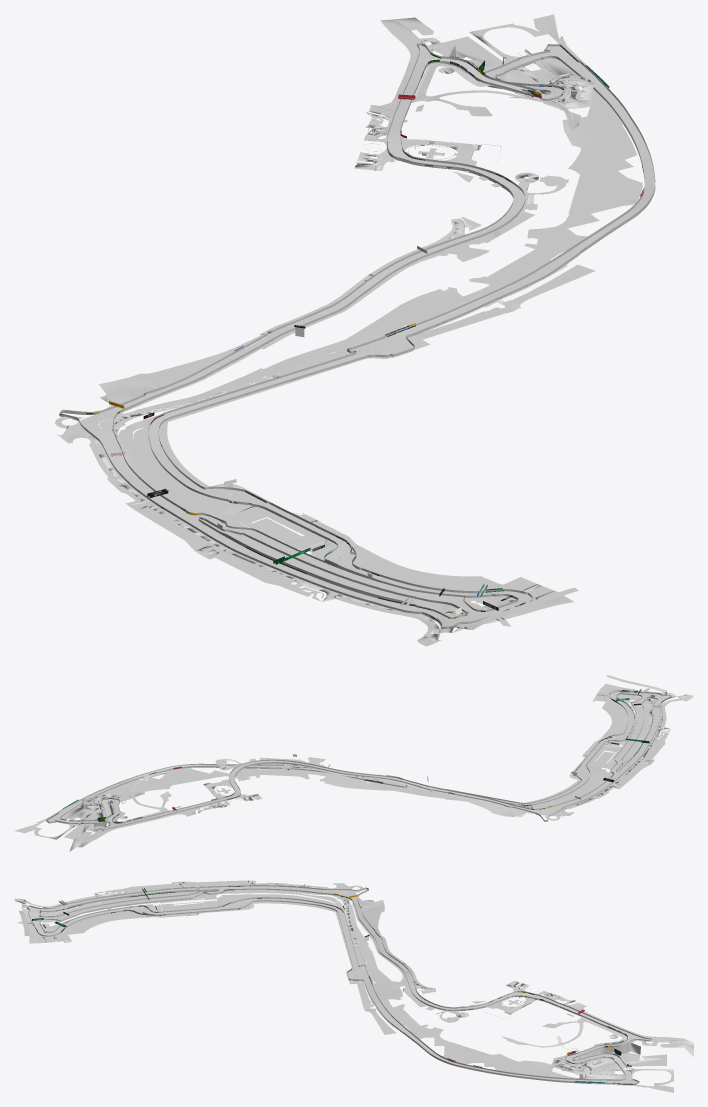
File: physics.glb
3 renders of one model, top to bottom at view 1: azimuth 30°, elevation 25°; view 2: azimuth 150°, elevation 25°; view 3: azimuth 270°, elevation 25°, orthographic. The views are drawn at different scales.
Visible parts, largest first — view 1: Physics.Ground, Physics.Barrier; view 2: Physics.Ground, Physics.Barrier; view 3: Physics.Ground, Physics.Barrier.
Part boxes in pixels (left/top/right/bottom): Physics.Ground: left=55, top=14, right=655, bottom=646; Physics.Barrier: left=59, top=43, right=655, bottom=628; Physics.Ground: left=14, top=675, right=693, bottom=851; Physics.Barrier: left=46, top=690, right=671, bottom=830; Physics.Ground: left=14, top=880, right=693, bottom=1092; Physics.Barrier: left=27, top=885, right=651, bottom=1084.
Size of the model in its own units: 935 by 57.01 by 1255.
61 materials, 46 textured.
